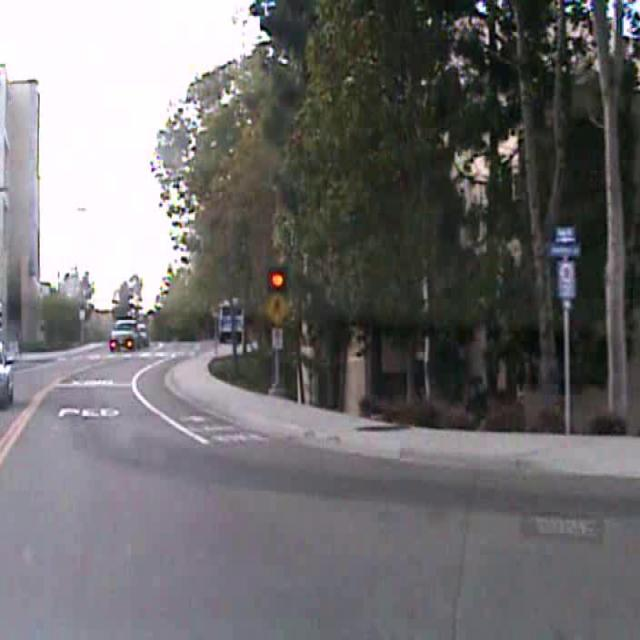pedestrianCrossing: (262, 290, 291, 326)
